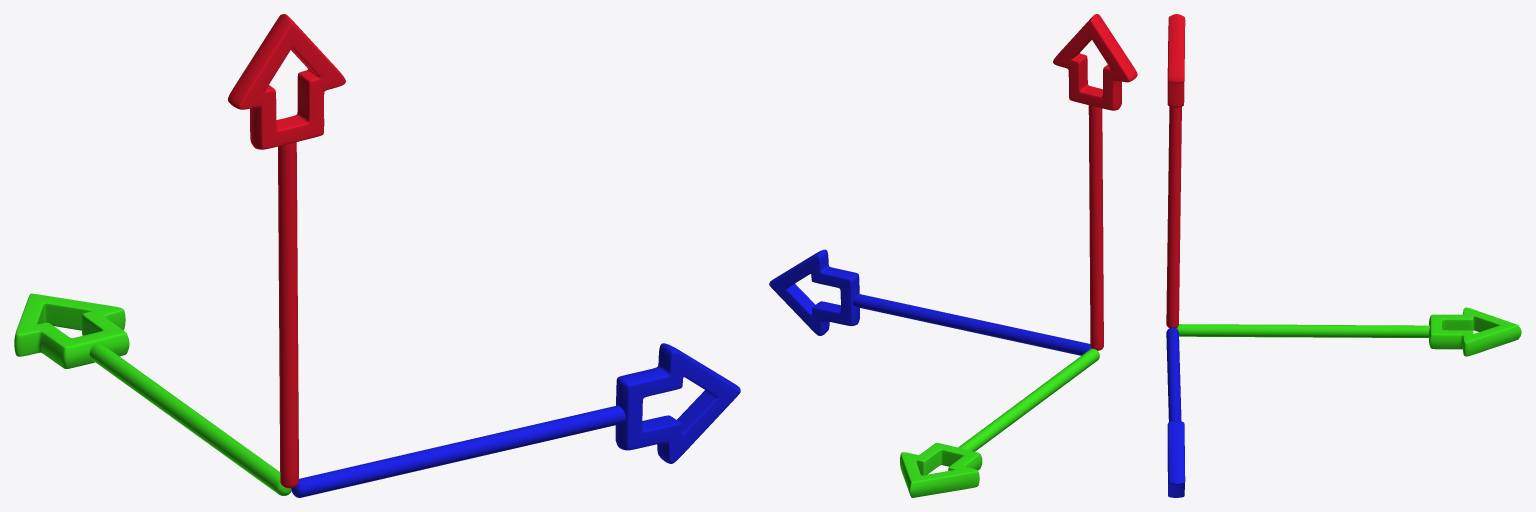
The model's file is Axiis.fbx.
3 renders of one model, left to right at view 1: azimuth 30°, elevation 25°; view 2: azimuth 150°, elevation 25°; view 3: azimuth 270°, elevation 25°, orthographic. The views are drawn at different scales.
Parts seen in each view (by area): view 1: 19757_Up_arrow_v1.001; view 2: 19757_Up_arrow_v1.001; view 3: 19757_Up_arrow_v1.001.
Boxes of the visible parts, x1=… form: 19757_Up_arrow_v1.001: x1=14, y1=14, x2=740, y2=497; 19757_Up_arrow_v1.001: x1=769, y1=14, x2=1137, y2=497; 19757_Up_arrow_v1.001: x1=1166, y1=14, x2=1521, y2=497.
Bounding box in the file's own units: 3054 × 3099 × 2772.
